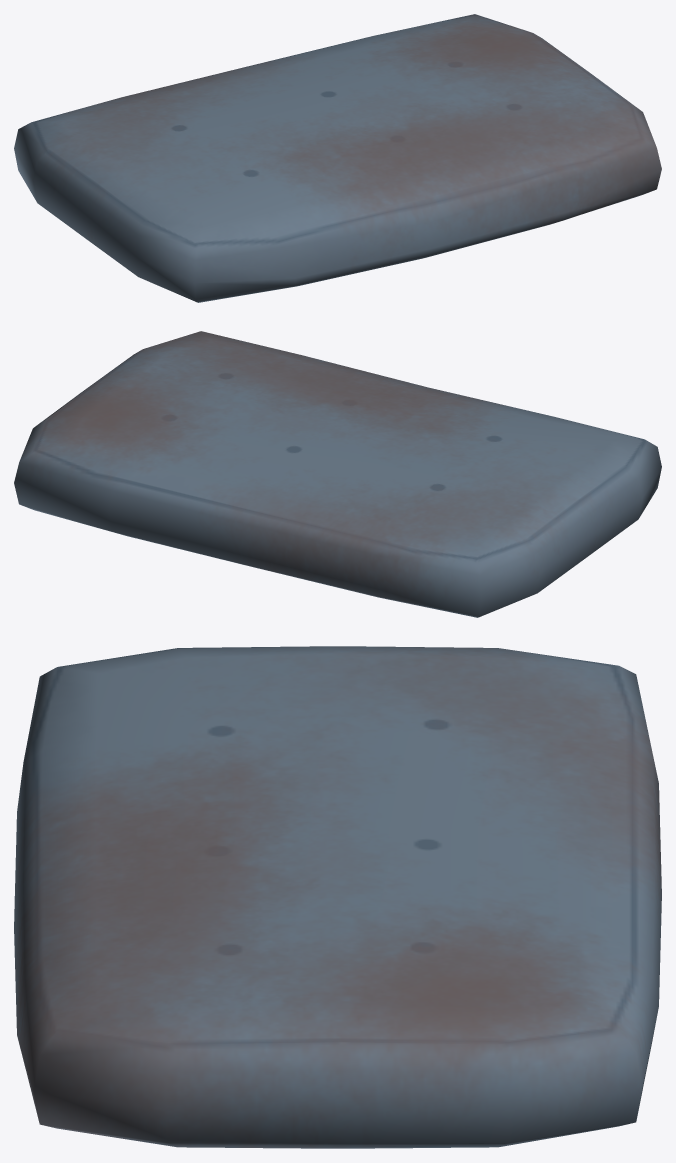
File: old matress.fbx
3 renders of one model, top to bottom at view 1: azimuth 30°, elevation 25°; view 2: azimuth 150°, elevation 25°; view 3: azimuth 270°, elevation 25°, orthographic. The views are drawn at different scales.
Parts seen in each view (by area): view 1: polySurface400; view 2: polySurface400; view 3: polySurface400.
Part boxes in pixels (bbox=[...]): polySurface400: bbox=[14, 14, 661, 302]; polySurface400: bbox=[14, 331, 661, 617]; polySurface400: bbox=[14, 646, 661, 1148].
Size of the model in its own units: 2.71 by 0.4162 by 1.77.
1 material, 1 textured.
